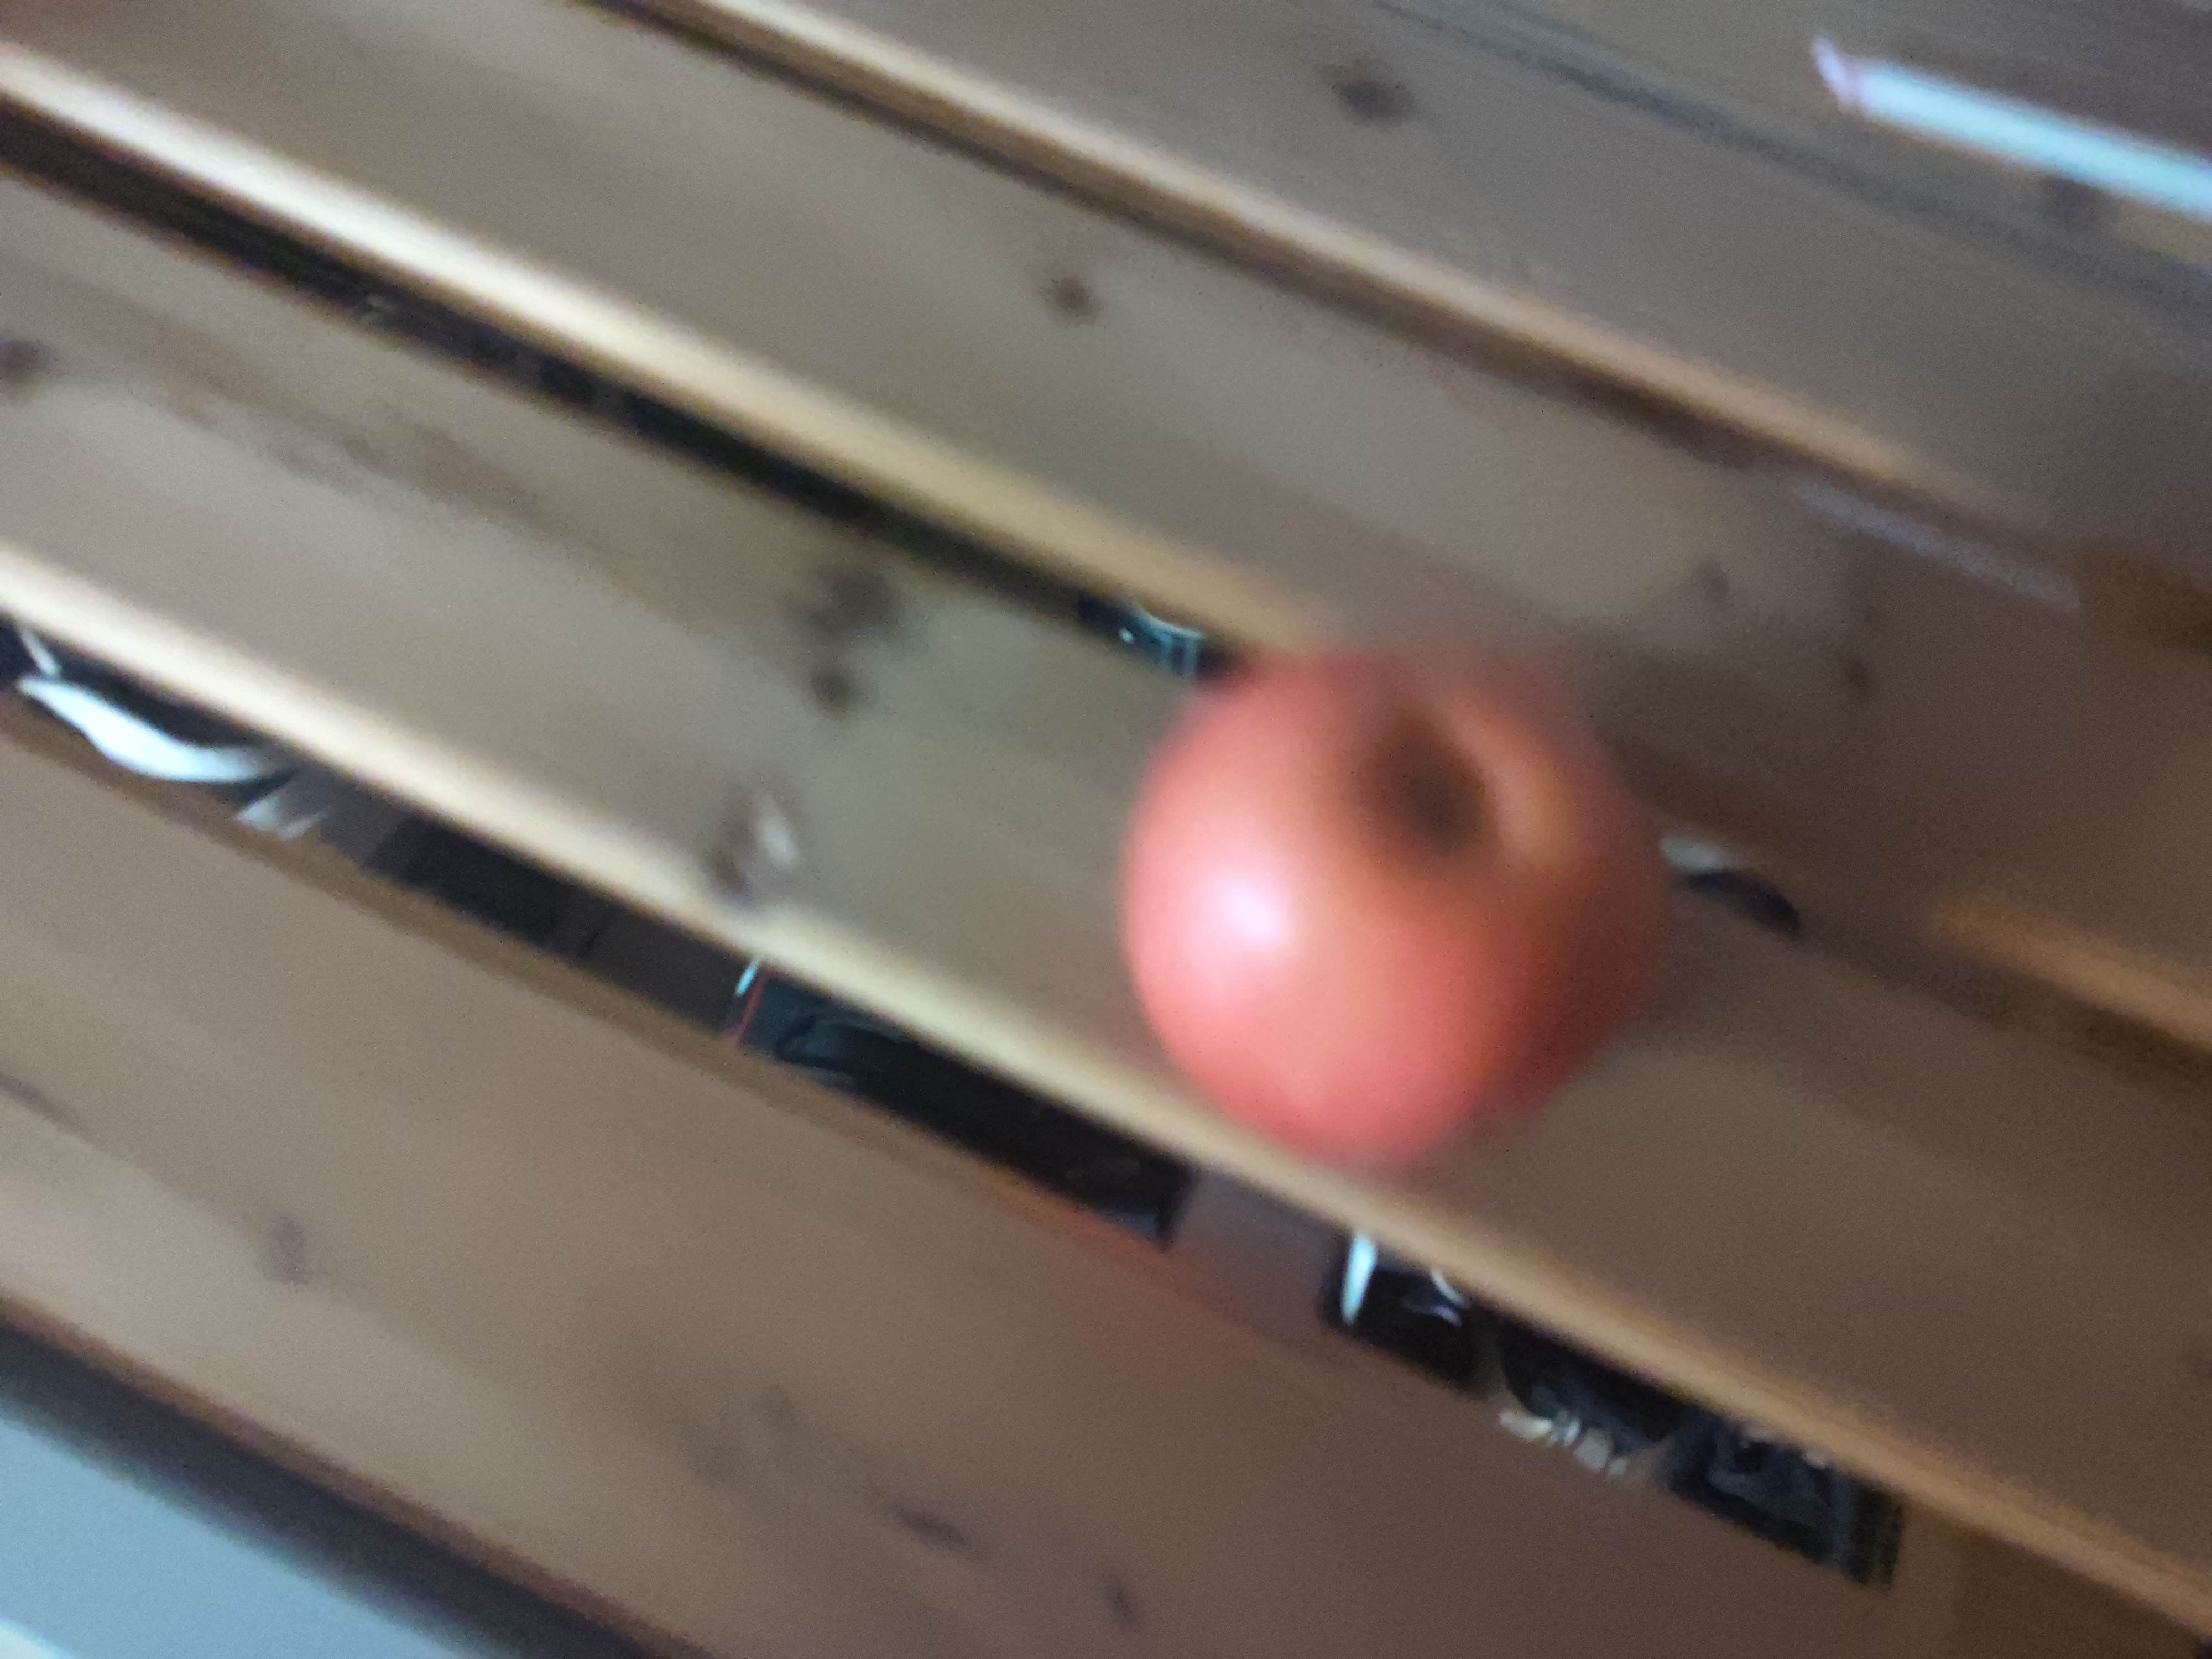apple: (1122, 638, 1660, 1178)
